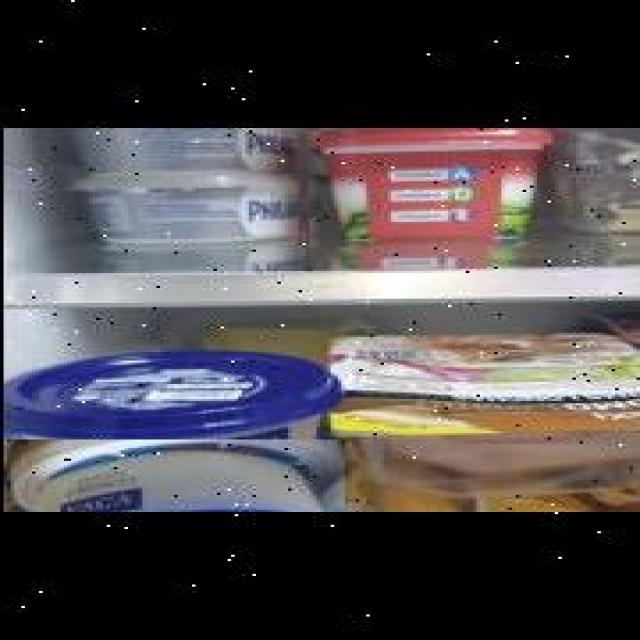butter: (300, 128, 550, 247)
cheese: (0, 439, 341, 511)
